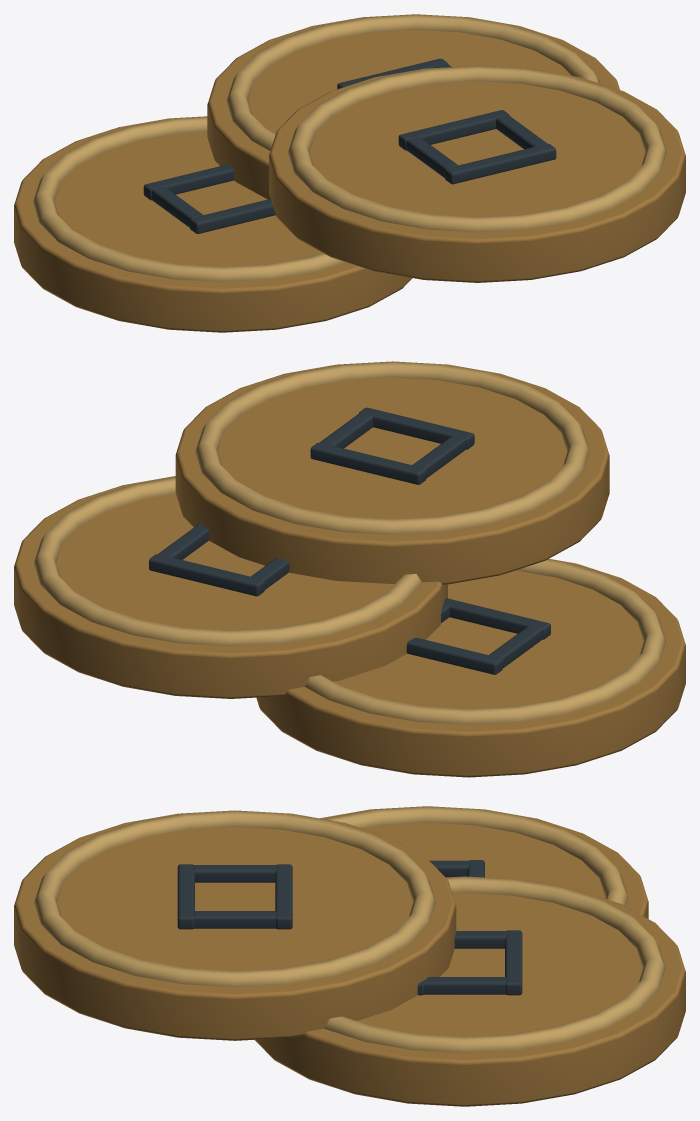
File: currency.glb
3 renders of one model, top to bottom at view 1: azimuth 30°, elevation 25°; view 2: azimuth 150°, elevation 25°; view 3: azimuth 270°, elevation 25°, orthographic. The views are drawn at different scales.
Parts seen in each view (by area): view 1: SM_currency; view 2: SM_currency; view 3: SM_currency.
Boxes of the visible parts, x1,y1,x2,y2 form: SM_currency: [14, 14, 685, 332]; SM_currency: [14, 361, 685, 777]; SM_currency: [14, 806, 685, 1106].
Size of the model in its own units: 0.244 by 0.0535 by 0.234.
